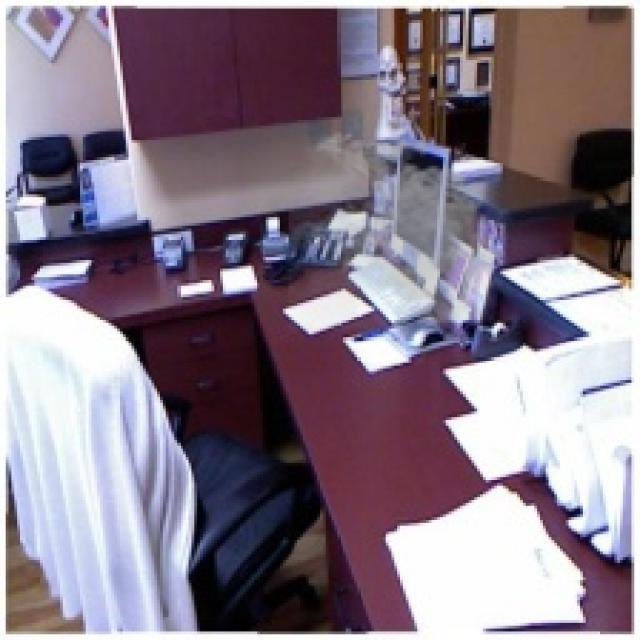smoke: (289, 126, 514, 331)
